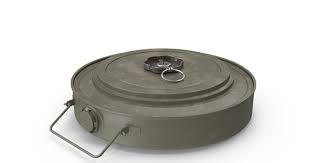car: (37, 23, 272, 163)
